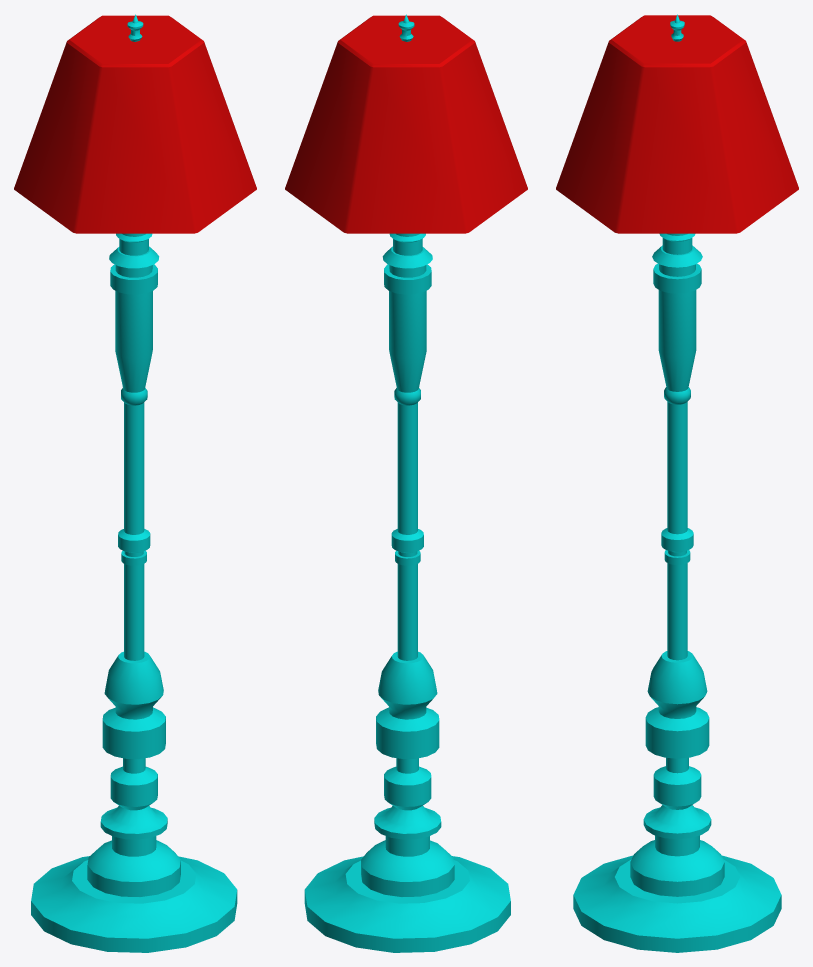
Rendered from Lamp.fbx.
3 views of the same model, side by side, from view 1: azimuth 30°, elevation 25°; view 2: azimuth 150°, elevation 25°; view 3: azimuth 270°, elevation 25° (orthographic).
Parts seen in each view (by area): view 1: Lamp; view 2: Lamp; view 3: Lamp.
Part boxes in pixels (x1,y1,x2,y2): Lamp: (14,14,256,952); Lamp: (285,14,527,952); Lamp: (556,14,798,952).
Size of the model in its own units: 0.4091 by 1.9 by 0.4677.
